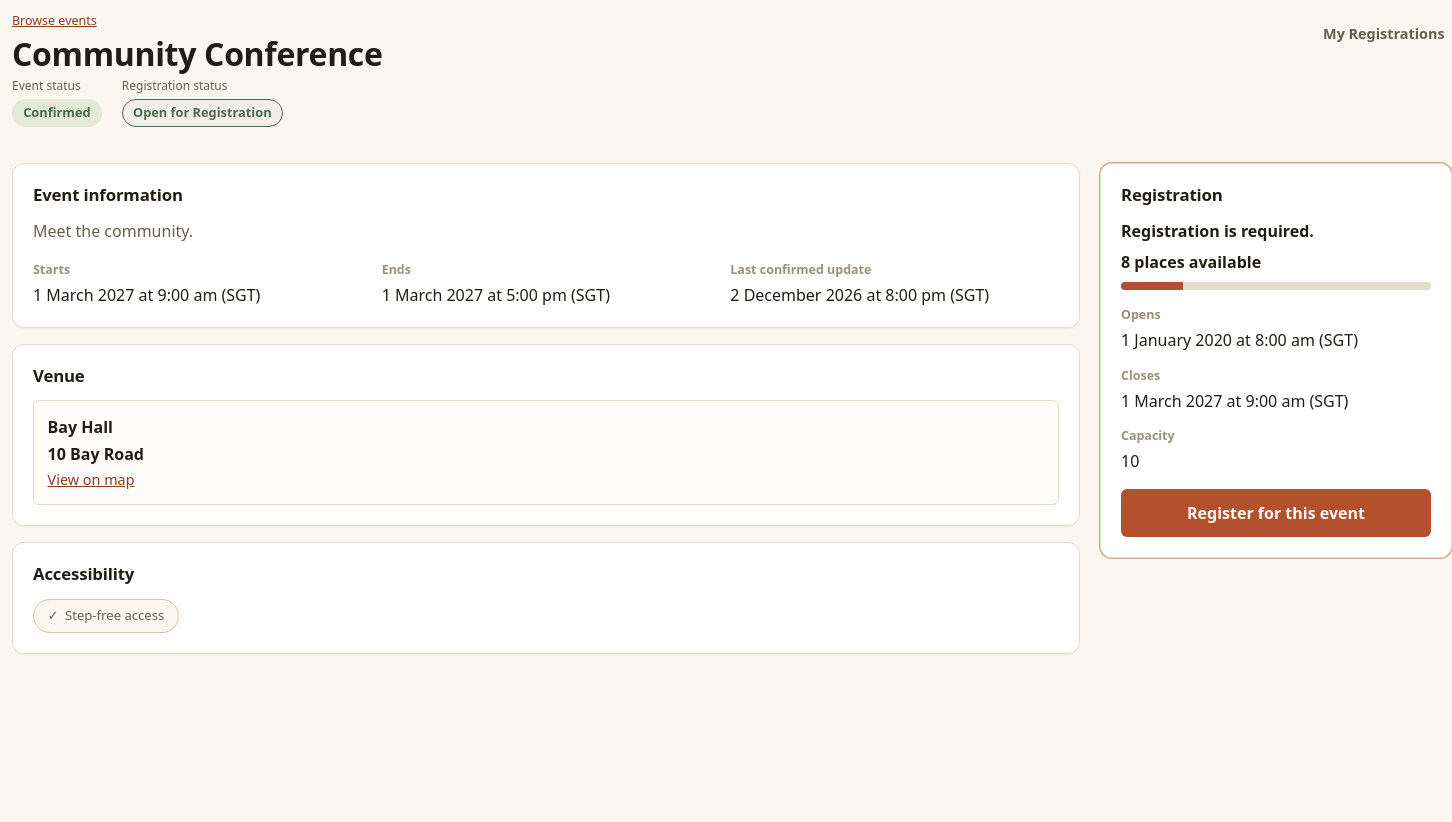
Test: AT02 attendee event details › AT01 AC5 (happy): submits a registration and displays its unique confirmation reference
Click the button "Register for this event": coordinates (1276, 513) [1121, 489, 1431, 537]
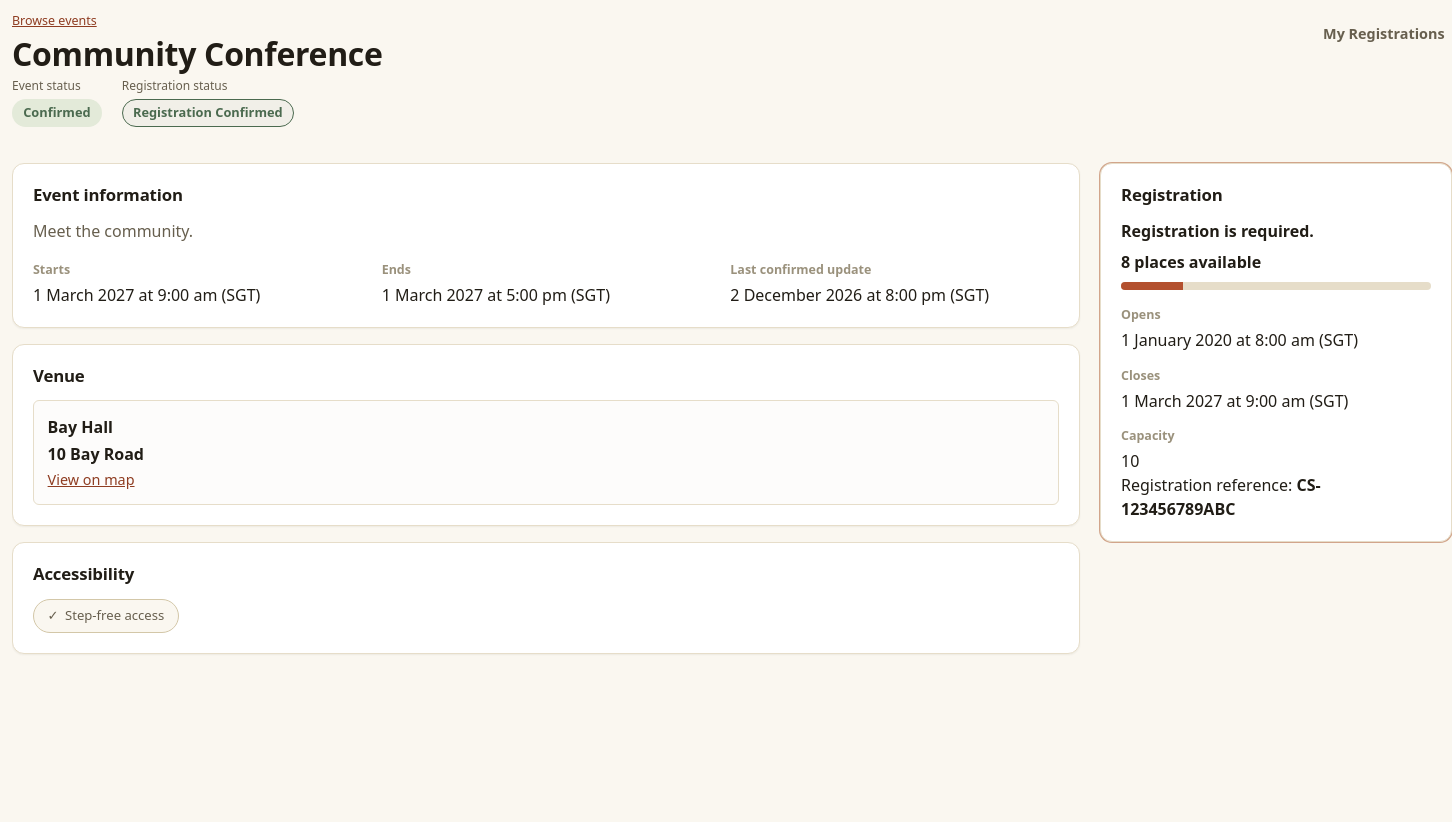
Now the text "CS-123456789ABC" is shown, box [1121, 474, 1321, 520]
